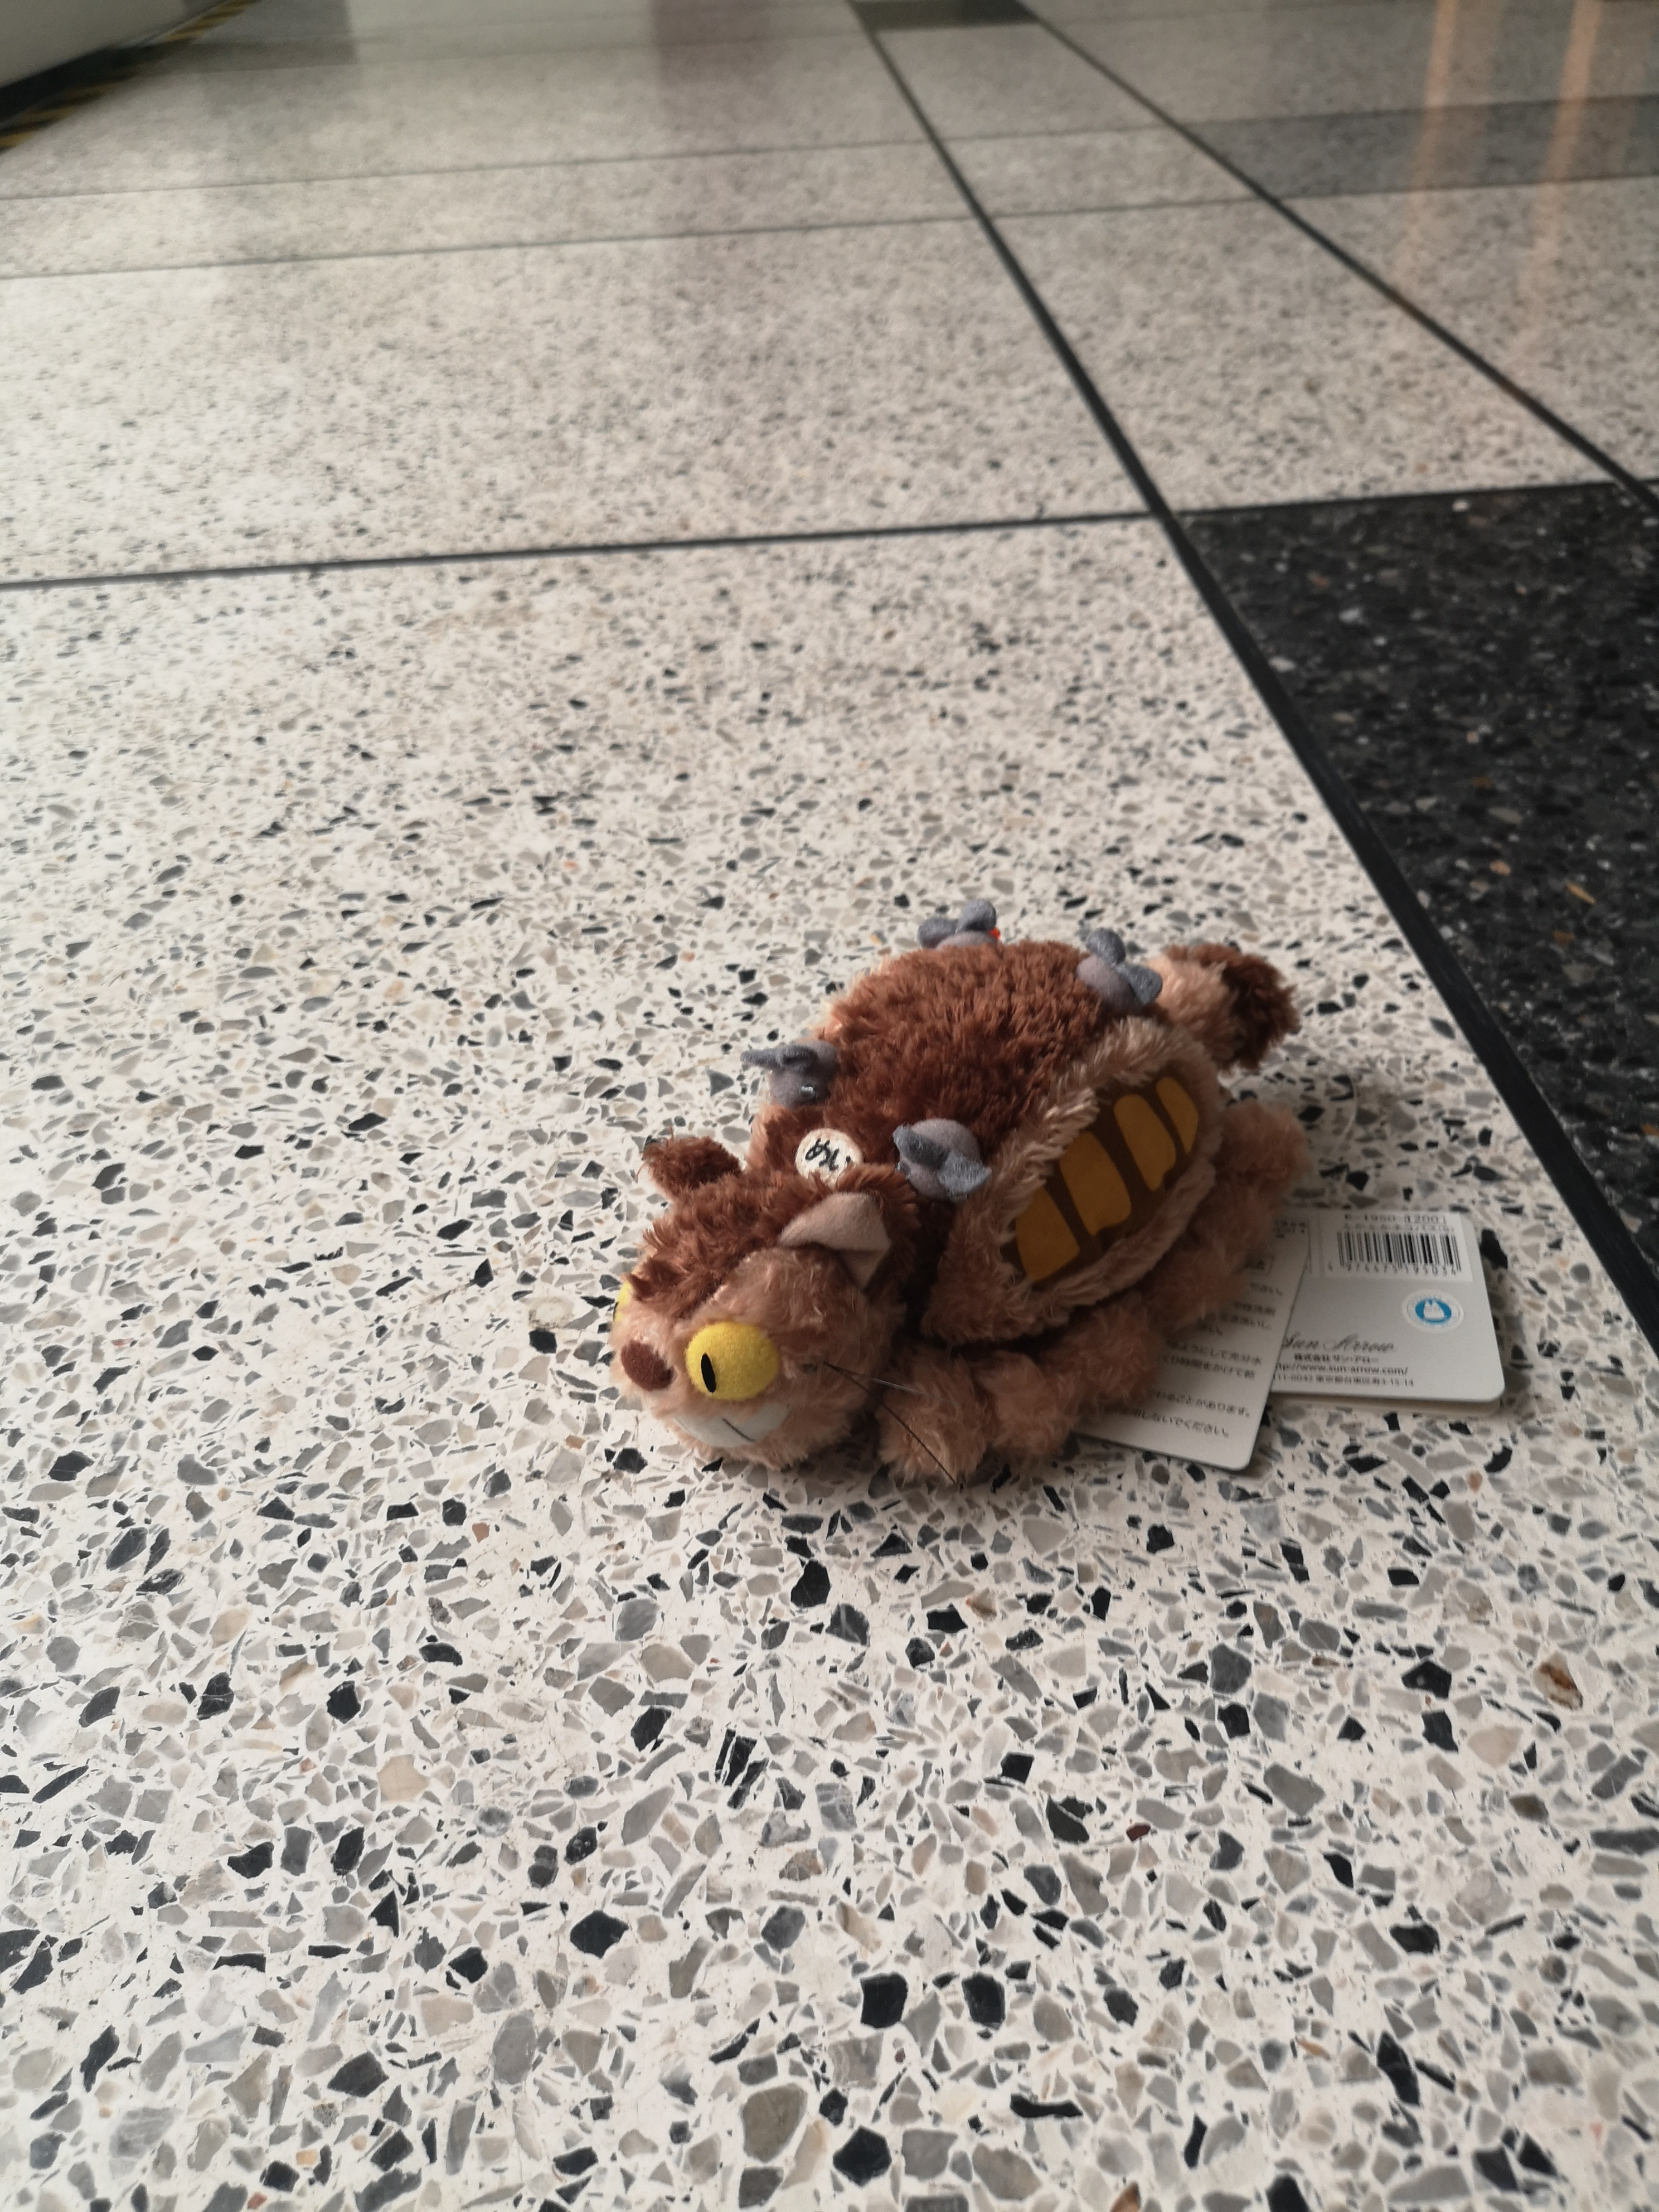nekobus: (598, 897, 1375, 1507)
